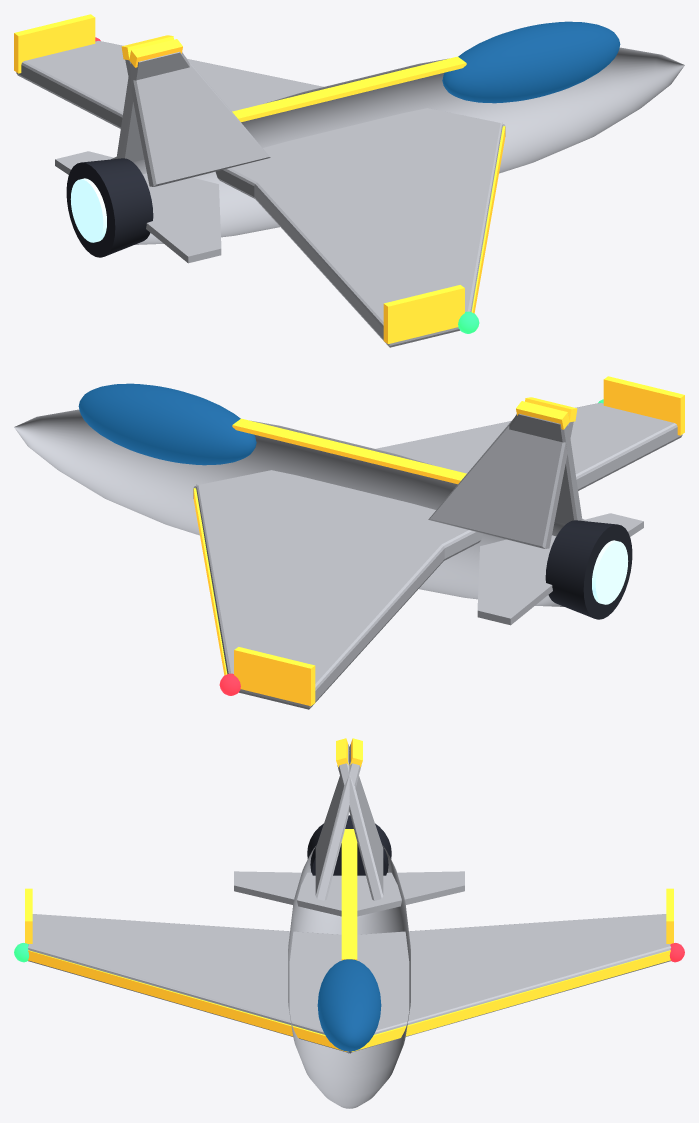
File: crash_jet.glb
The picture shows the model from 3 angles, top to bottom: view 1: azimuth 30°, elevation 25°; view 2: azimuth 150°, elevation 25°; view 3: azimuth 270°, elevation 25°; orthographic projection. The views are drawn at different scales.
Parts seen in each view (by area): view 1: Wing (×2), Fuselage, FinBody (×2), Canopy, Winglet (×2), Tailplane (×2), Nozzle, Spine, NozzleCore, LeadingEdge, FinTop; view 2: Wing (×2), Fuselage, FinBody (×2), Canopy, Winglet (×2), Tailplane (×2), Nozzle, Spine, NozzleCore, LeadingEdge, FinTop; view 3: Wing (×2), Fuselage, LeadingEdge (×2), Tailplane (×2), FinBody (×2), Canopy, Spine, Nozzle.
Part boxes in pixels (x1,y1,x2,y2): Wing (×2): [16, 40, 505, 347]; Fuselage: [110, 47, 684, 244]; FinBody (×2): [116, 51, 270, 186]; Canopy: [442, 21, 620, 103]; Winglet (×2): [14, 14, 464, 344]; Tailplane (×2): [55, 151, 221, 263]; Nozzle: [66, 158, 153, 257]; Spine: [232, 56, 466, 122]; NozzleCore: [70, 178, 106, 242]; LeadingEdge: [471, 126, 505, 313]; FinTop: [129, 39, 182, 67]; Wing (×2): [193, 402, 682, 709]; Fuselage: [14, 409, 588, 606]; FinBody (×2): [428, 413, 582, 548]; Canopy: [78, 383, 256, 465]; Winglet (×2): [234, 376, 684, 706]; Tailplane (×2): [477, 513, 643, 625]; Nozzle: [545, 520, 632, 619]; Spine: [232, 418, 466, 484]; NozzleCore: [592, 540, 628, 604]; LeadingEdge: [193, 488, 227, 675]; FinTop: [516, 401, 569, 429]; Wing (×2): [28, 914, 670, 1053]; Fuselage: [288, 845, 410, 1108]; LeadingEdge (×2): [28, 950, 670, 1051]; Tailplane (×2): [234, 871, 464, 916]; FinBody (×2): [315, 744, 383, 900]; Canopy: [317, 959, 381, 1051]; Spine: [341, 829, 357, 960]; Nozzle: [307, 815, 391, 875].
Size of the model in its own units: 0.2335 by 0.0778 by 0.2616.
